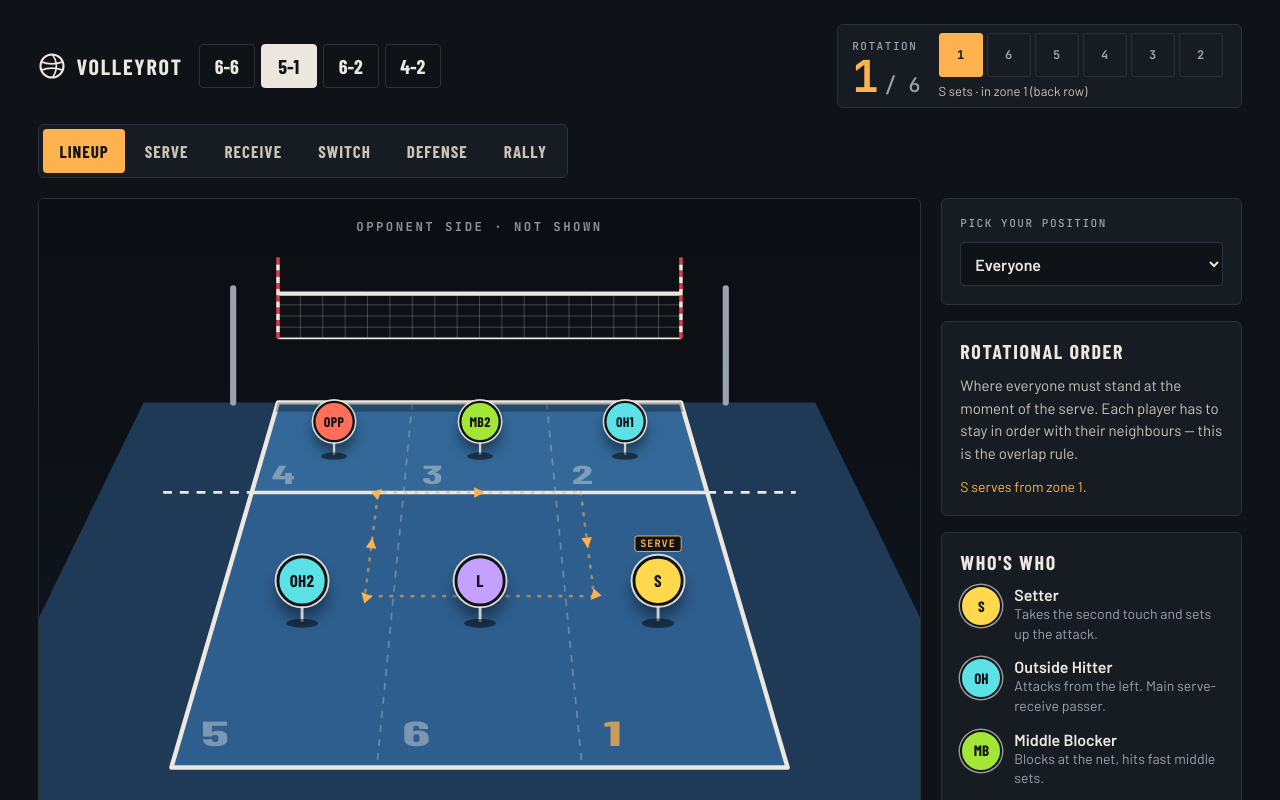
jump buttons set the rotation
This screenshot has width=1280, height=800.
Click the button named "Rotation 4" at (1105, 55), box [1083,33,1127,77]
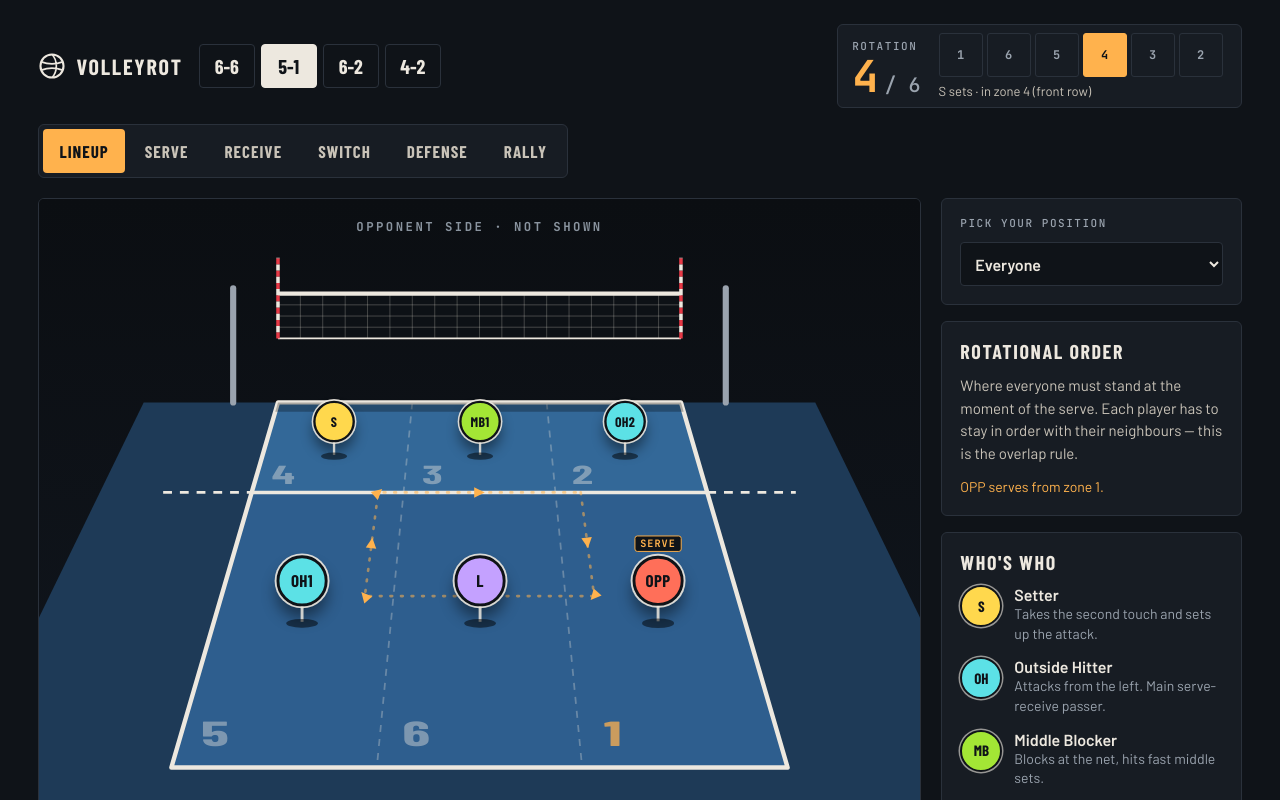
Expected: the text named "Current rotation" reads "4", [852,47,879,105]
